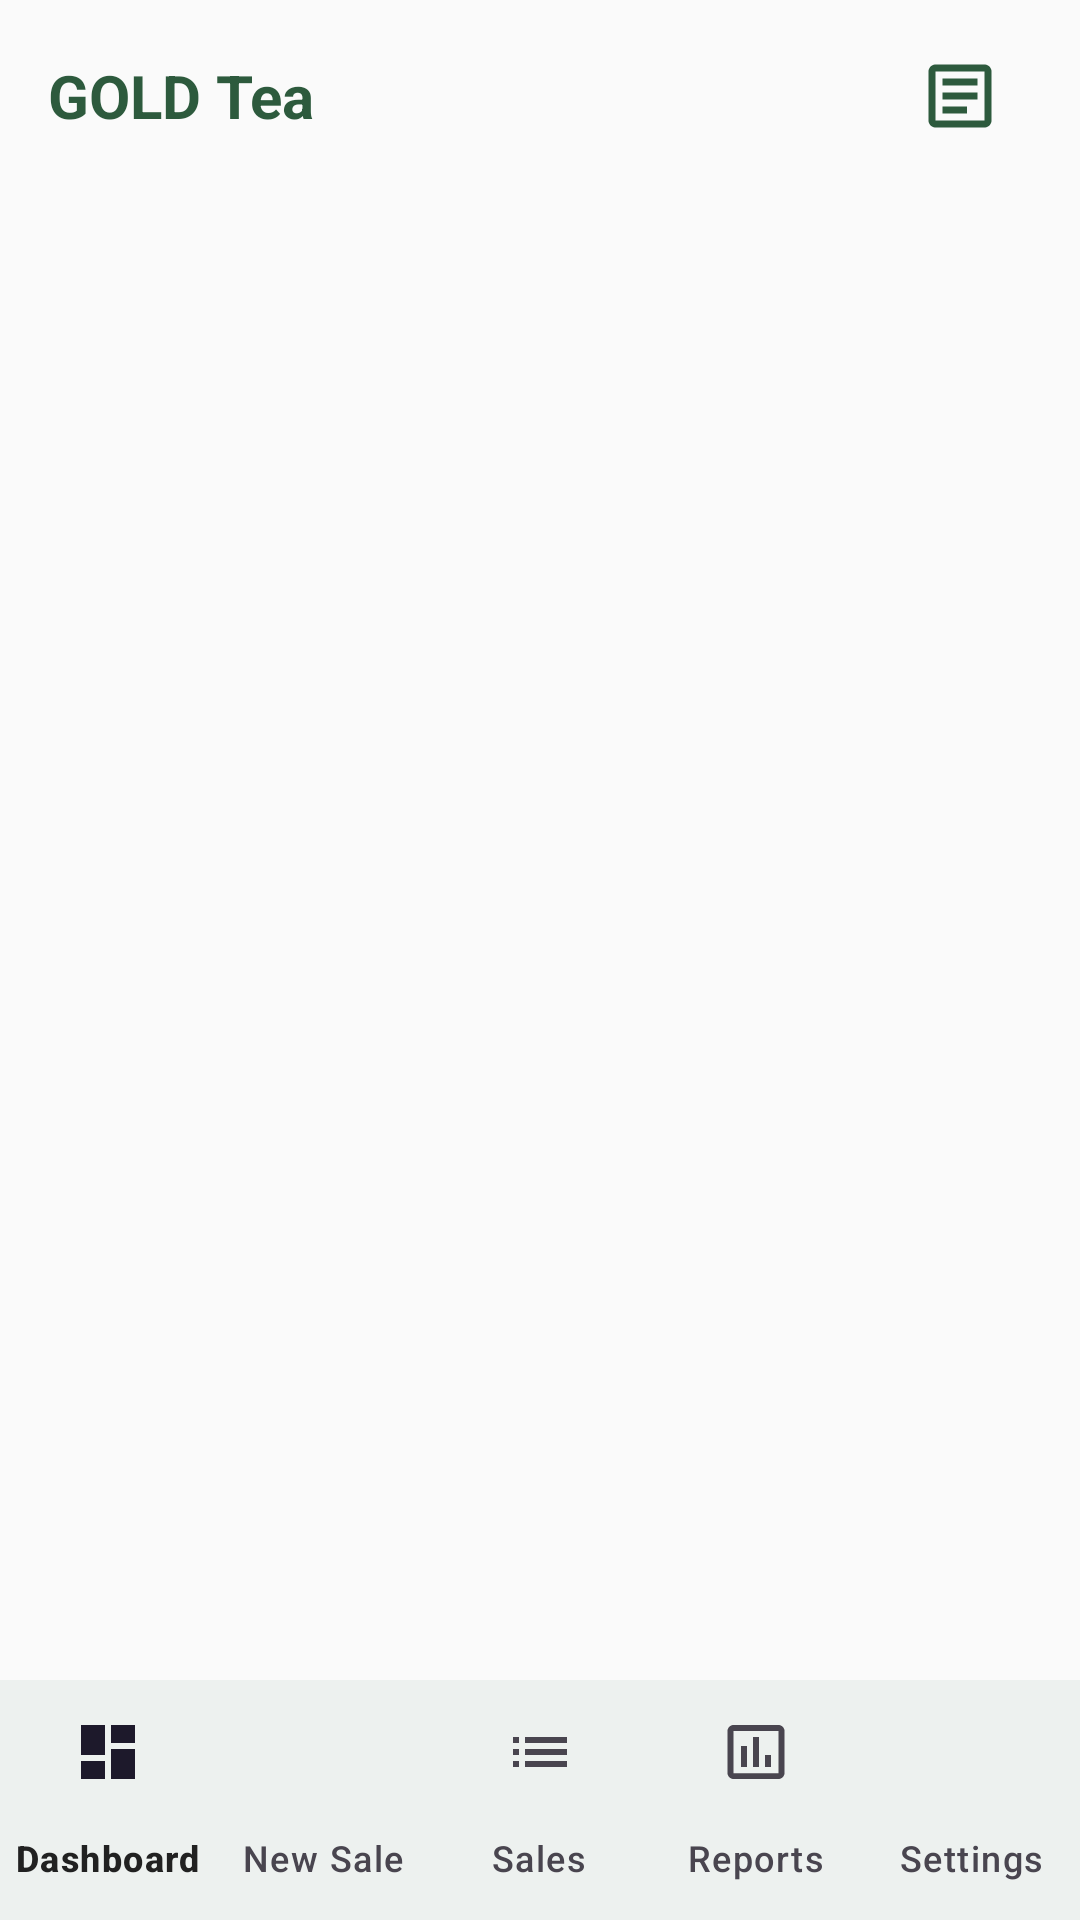

Where to tap for icons on this 1080×1920 app screen, as [x,y]:
notepad: [960,96]
